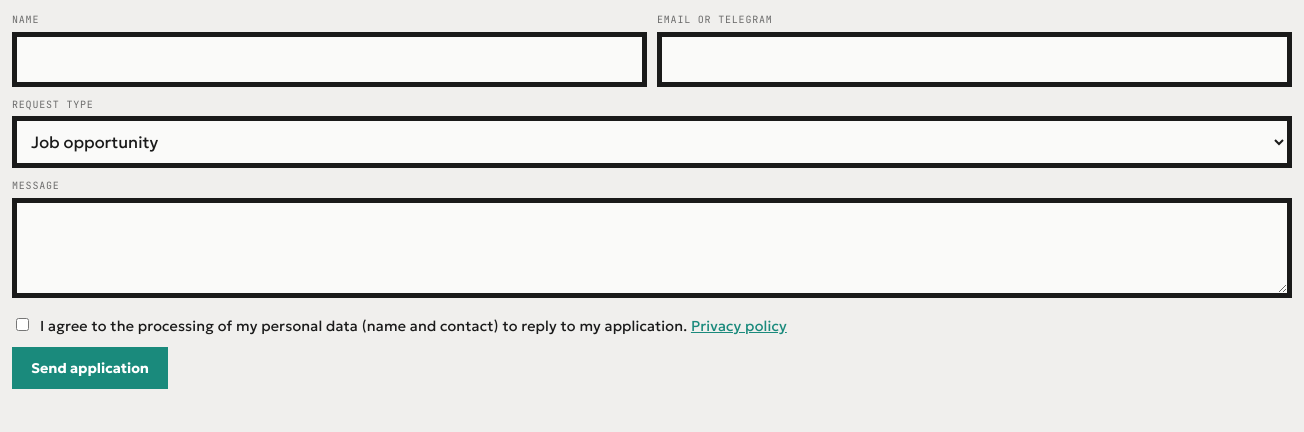
Test: ApplicationForm › shows rate-limit error on 429
The image size is (1304, 432).
In the field labelled "Name": [330, 59] box top-left (12, 32), bottom-right (647, 87), type "Ivan Petrov"
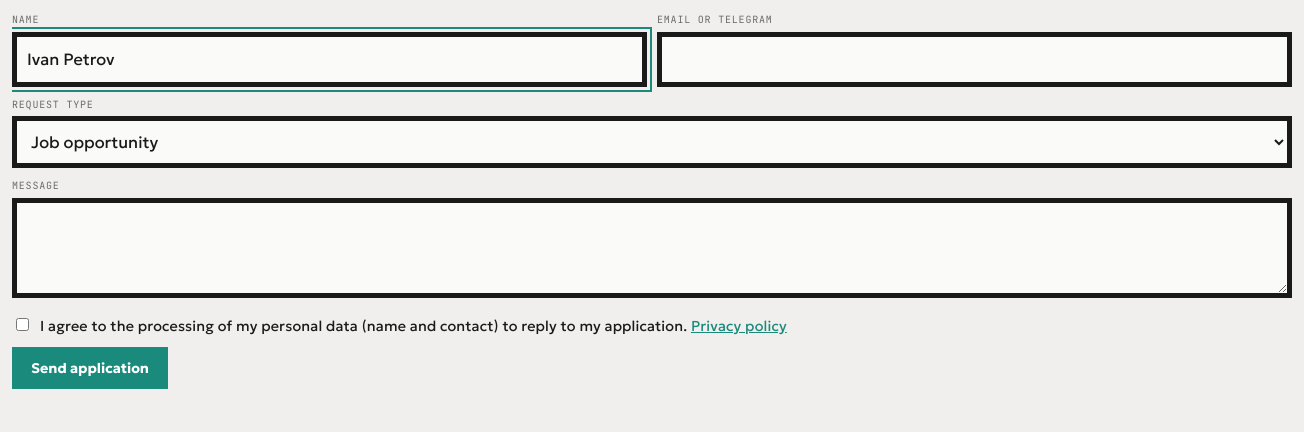
In the field labelled "Email or Telegram": [974, 59] box top-left (657, 32), bottom-right (1292, 87), type "@ivan"
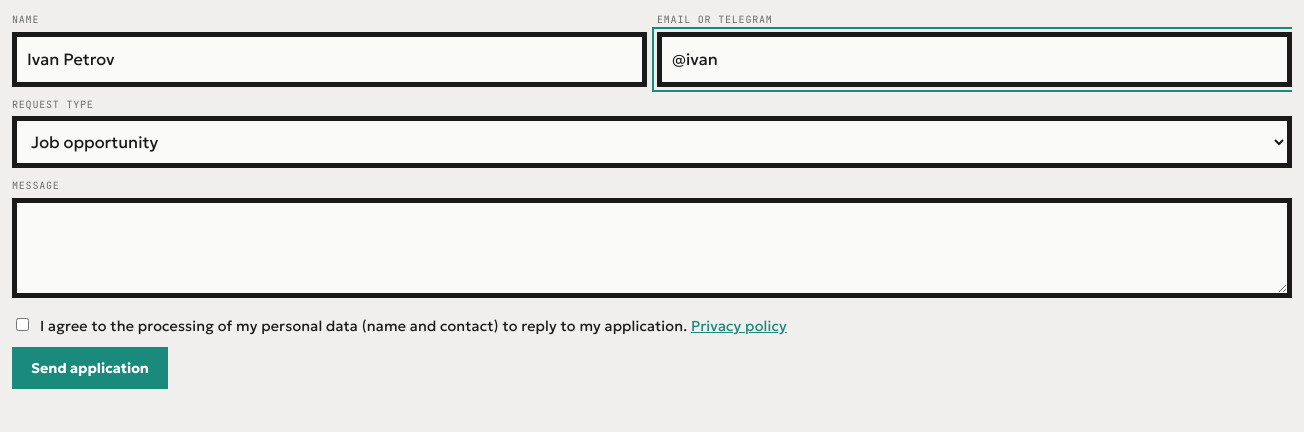
In the text box labelled "Message": [652, 248] box top-left (12, 198), bottom-right (1292, 298), type "I would like to discuss a backend role with you."
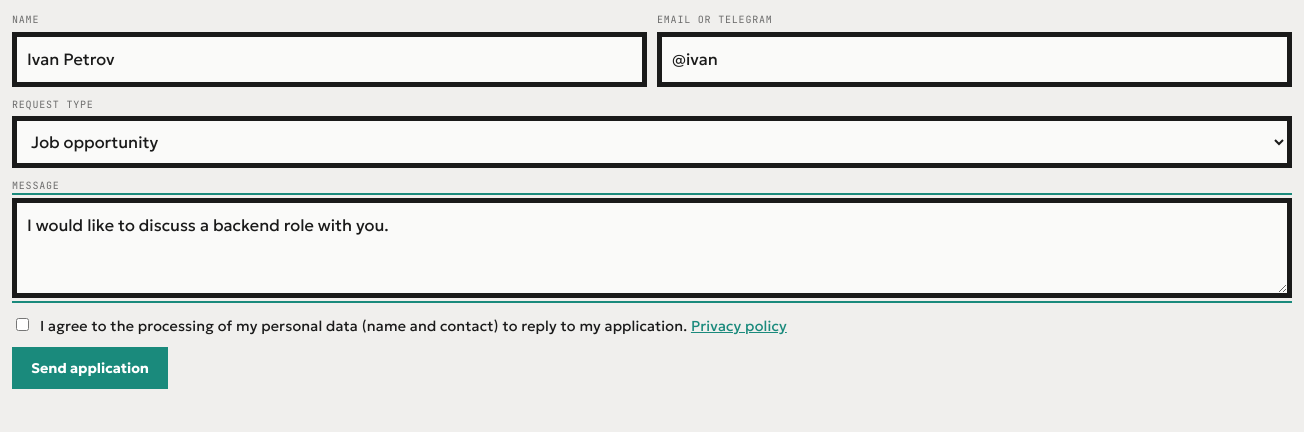
Click the checkbox: [22, 325] box top-left (16, 318), bottom-right (29, 331)
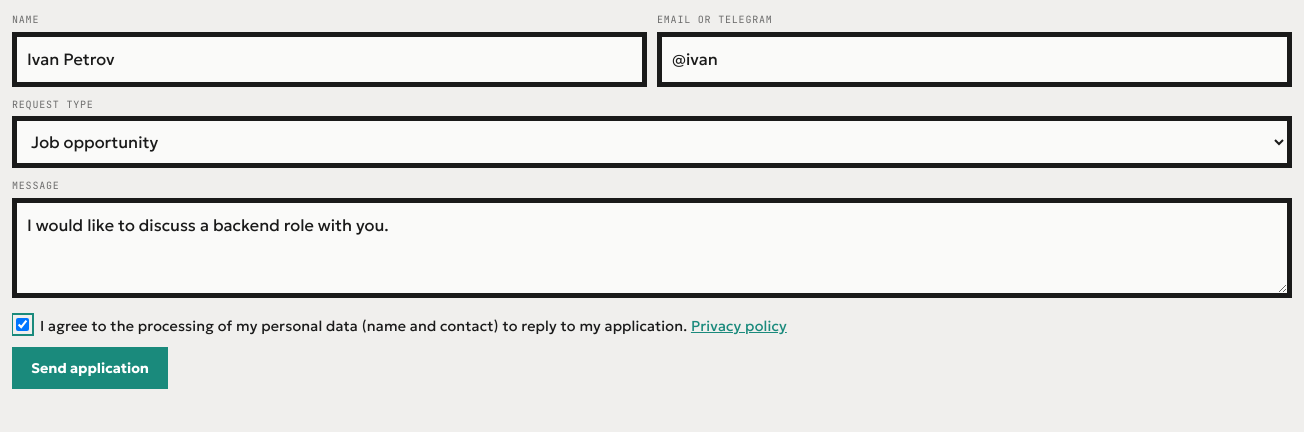
Click the button "Send application": [90, 368] box top-left (12, 347), bottom-right (168, 389)
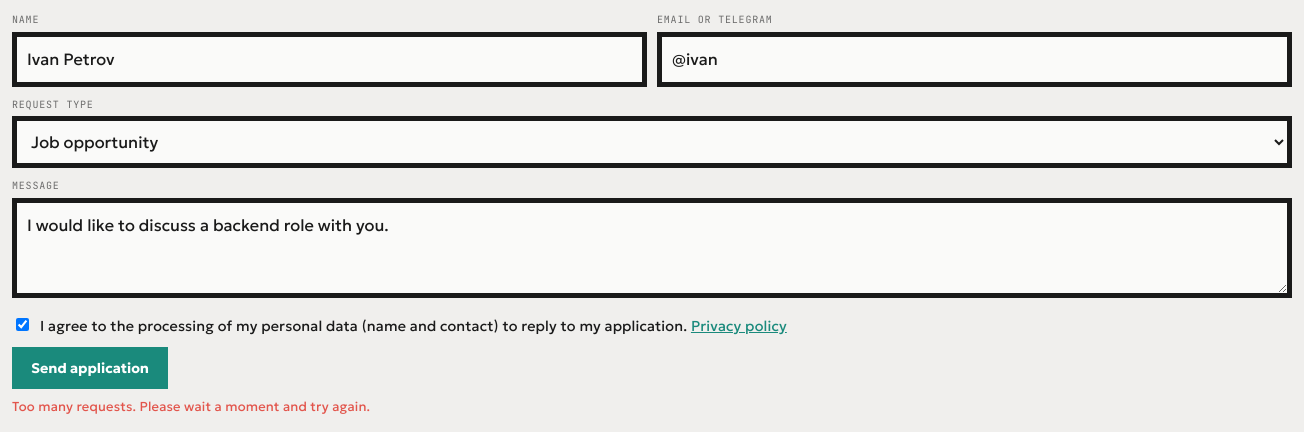
Result: the message reads "Too many requests. Please wait a moment and try again." at top-left (12, 398), bottom-right (370, 415)
